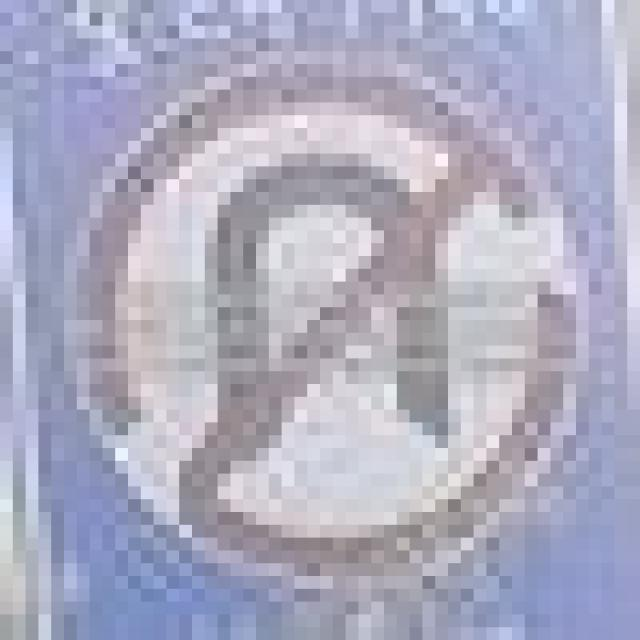U_TURN_PROHIBITED: (38, 51, 576, 576)
